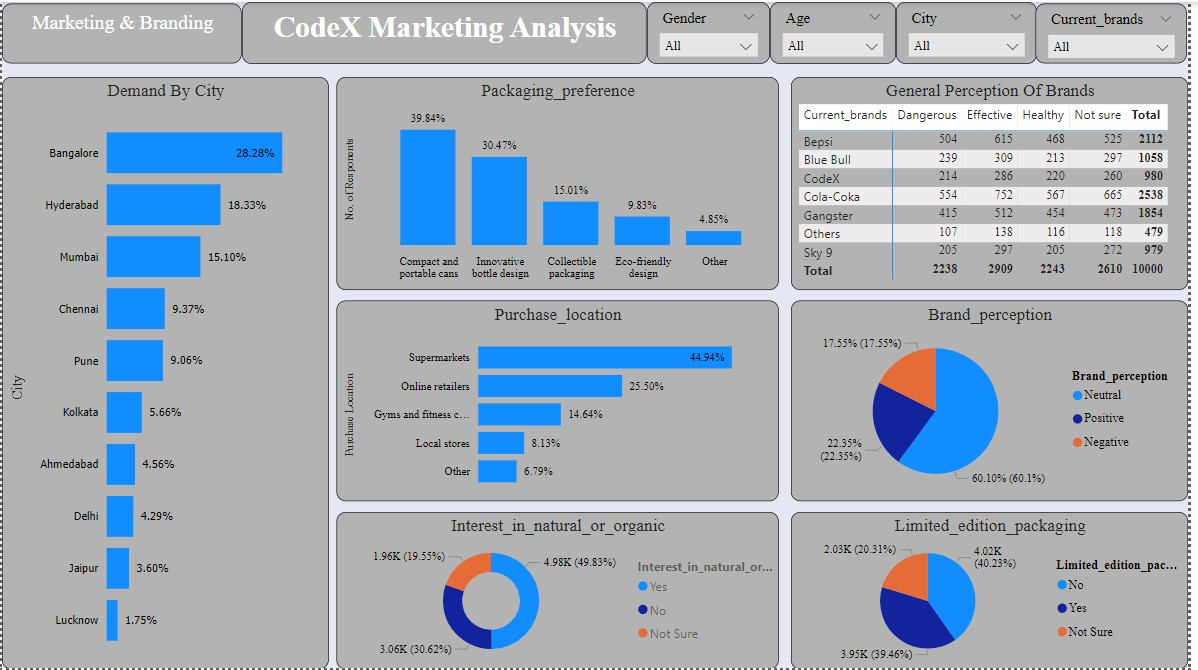

This screenshot's page, from the dashboard's own definition file:
{"tool":"powerbi","page":{"name":"Marketing & Branding","canvas":[1280,720],"ordinal":6},"visuals":[{"type":"textbox","box":[258.9,0,436.9,66.3],"z":0},{"type":"textbox","box":[0,1.6,258.9,64.7],"z":1000},{"type":"slicer","fields":{"Values":["dim_repondents.Gender"]},"box":[695.7,0,132.7,66.3],"z":2000},{"type":"slicer","fields":{"Values":["dim_cities.City"]},"box":[964.3,0,152.1,66.3],"z":3000},{"type":"slicer","fields":{"Values":["dim_repondents.Age"]},"box":[828.4,0,135.9,66.3],"z":4000},{"type":"clusteredBarChart","title":"Purchase_location","fields":{"Category":["fact_survey_responses.Purchase_location"],"Y":["CountNonNull(dim_repondents.Respondent_ID)"]},"box":[360.8,322,477.3,216.8],"z":5000},{"type":"pieChart","title":"Limited_edition_packaging","fields":{"Category":["fact_survey_responses.Limited_edition_packaging"],"Y":["CountNonNull(fact_survey_responses.Response_ID)"]},"box":[851.1,550.1,428.8,169.9],"z":6000},{"type":"donutChart","title":"Interest_in_natural_or_organic","fields":{"Category":["fact_survey_responses.Interest_in_natural_or_organic"],"Y":["CountNonNull(fact_survey_responses.Respondent_ID)"]},"box":[360.8,550.1,477.3,169.9],"z":7000},{"type":"clusteredBarChart","title":"Demand By City","fields":{"Category":["dim_cities.City"],"Y":["CountNonNull(dim_repondents.Respondent_ID)"]},"box":[0,80.9,352.7,639.1],"z":8000},{"type":"pieChart","title":"Brand_perception","fields":{"Category":["fact_survey_responses.Brand_perception"],"Y":["Divide(CountNonNull(dim_repondents.Respondent_ID), ScopedEval(CountNonNull(dim_repondents.Respondent_ID), []))"]},"box":[851.1,322,428.8,216.8],"z":9000},{"type":"slicer","fields":{"Values":["fact_survey_responses.Current_brands"]},"box":[1116.4,1.6,163.4,64.7],"z":10000},{"type":"pivotTable","title":"General Perception Of Brands","fields":{"Columns":["fact_survey_responses.General_perception"],"Rows":["fact_survey_responses.Current_brands"],"Values":["CountNonNull(fact_survey_responses.Respondent_ID)"]},"box":[851.1,80.9,428.8,229.8],"z":11000},{"type":"clusteredColumnChart","title":"Packaging_preference","fields":{"Category":["fact_survey_responses.Packaging_preference"],"Y":["CountNonNull(fact_survey_responses.Respondent_ID)"]},"box":[360.8,80.9,477.3,229.8],"z":12000}]}

Visuals, with their boxes in screenshot pixels (x1, y1, x2, y2), scaled from the page's 1280x720 canvas onto the 1198x670 screenshot:
textbox: {"left": 242, "top": 0, "right": 651, "bottom": 62}
textbox: {"left": 0, "top": 1, "right": 242, "bottom": 62}
slicer - dim_repondents.Gender: {"left": 651, "top": 0, "right": 775, "bottom": 62}
slicer - dim_cities.City: {"left": 903, "top": 0, "right": 1045, "bottom": 62}
slicer - dim_repondents.Age: {"left": 775, "top": 0, "right": 903, "bottom": 62}
"Purchase_location" clusteredBarChart: {"left": 338, "top": 300, "right": 784, "bottom": 501}
"Limited_edition_packaging" pieChart: {"left": 797, "top": 512, "right": 1197, "bottom": 669}
"Interest_in_natural_or_organic" donutChart: {"left": 338, "top": 512, "right": 784, "bottom": 669}
"Demand By City" clusteredBarChart: {"left": 0, "top": 75, "right": 330, "bottom": 669}
"Brand_perception" pieChart: {"left": 797, "top": 300, "right": 1197, "bottom": 501}
slicer - fact_survey_responses.Current_brands: {"left": 1045, "top": 1, "right": 1197, "bottom": 62}
"General Perception Of Brands" pivotTable: {"left": 797, "top": 75, "right": 1197, "bottom": 289}
"Packaging_preference" clusteredColumnChart: {"left": 338, "top": 75, "right": 784, "bottom": 289}
